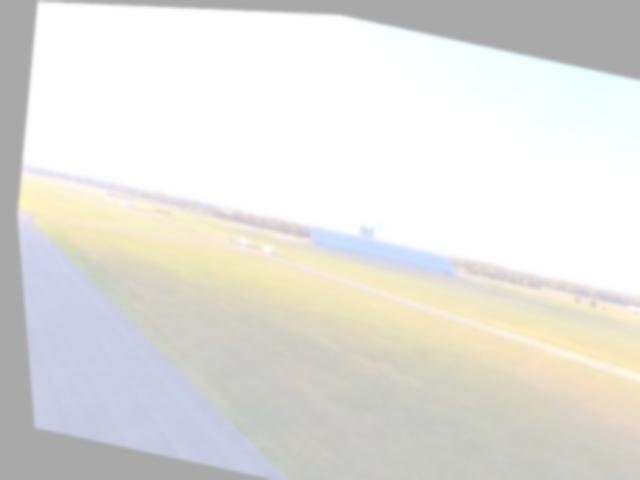uav: (359, 205, 394, 234)
